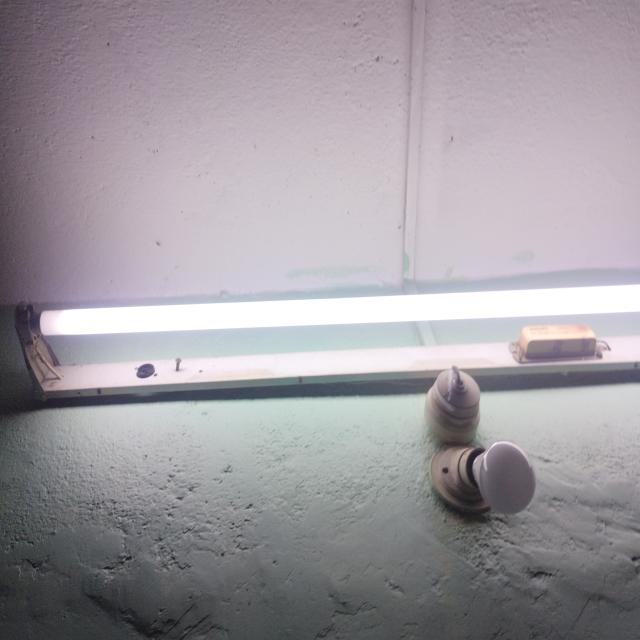tubelight_on: (17, 283, 640, 413)
